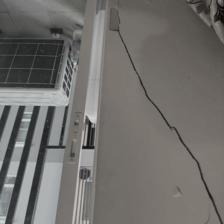Medium: (134, 75, 215, 200)
